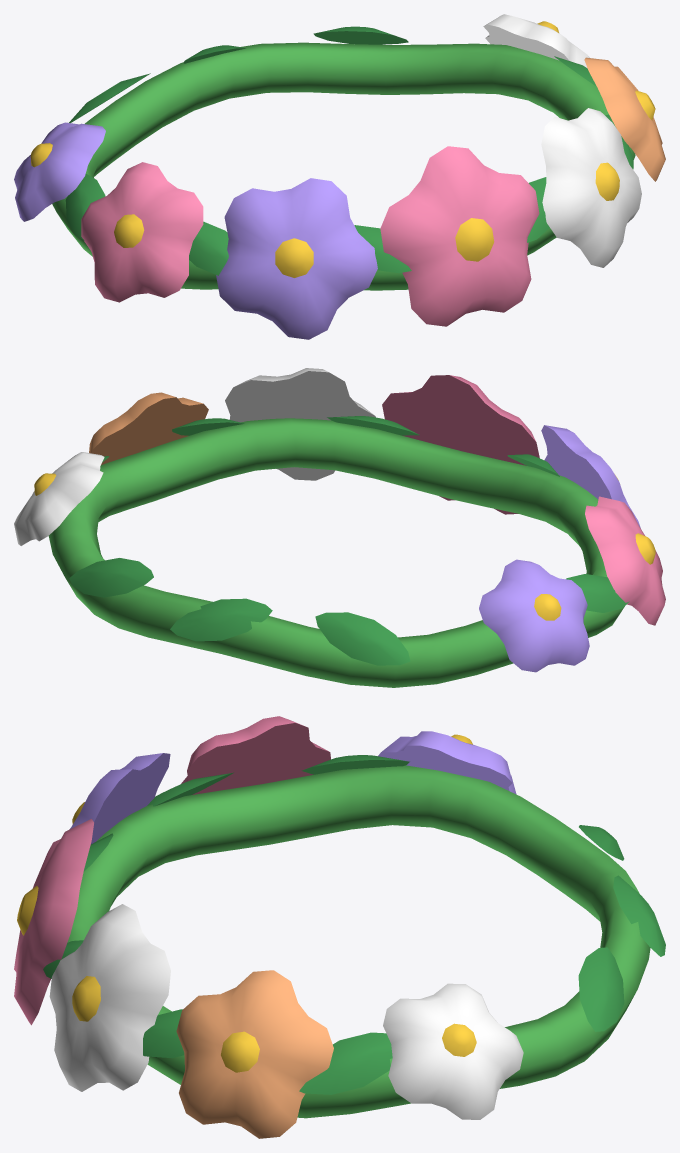
Rendered from flower_crown.glb.
3 views of the same model, one above another, from view 1: azimuth 30°, elevation 25°; view 2: azimuth 150°, elevation 25°; view 3: azimuth 270°, elevation 25° (orthographic). The views are drawn at different scales.
Parts seen in each view (by area): view 1: flower_crown; view 2: flower_crown; view 3: flower_crown.
Boxes of the visible parts, left/top/right/bottom form: flower_crown: left=14, top=14, right=665, bottom=339; flower_crown: left=14, top=368, right=665, bottom=687; flower_crown: left=14, top=716, right=665, bottom=1138.
Size of the model in its own units: 0.659 by 0.1705 by 0.5519.
